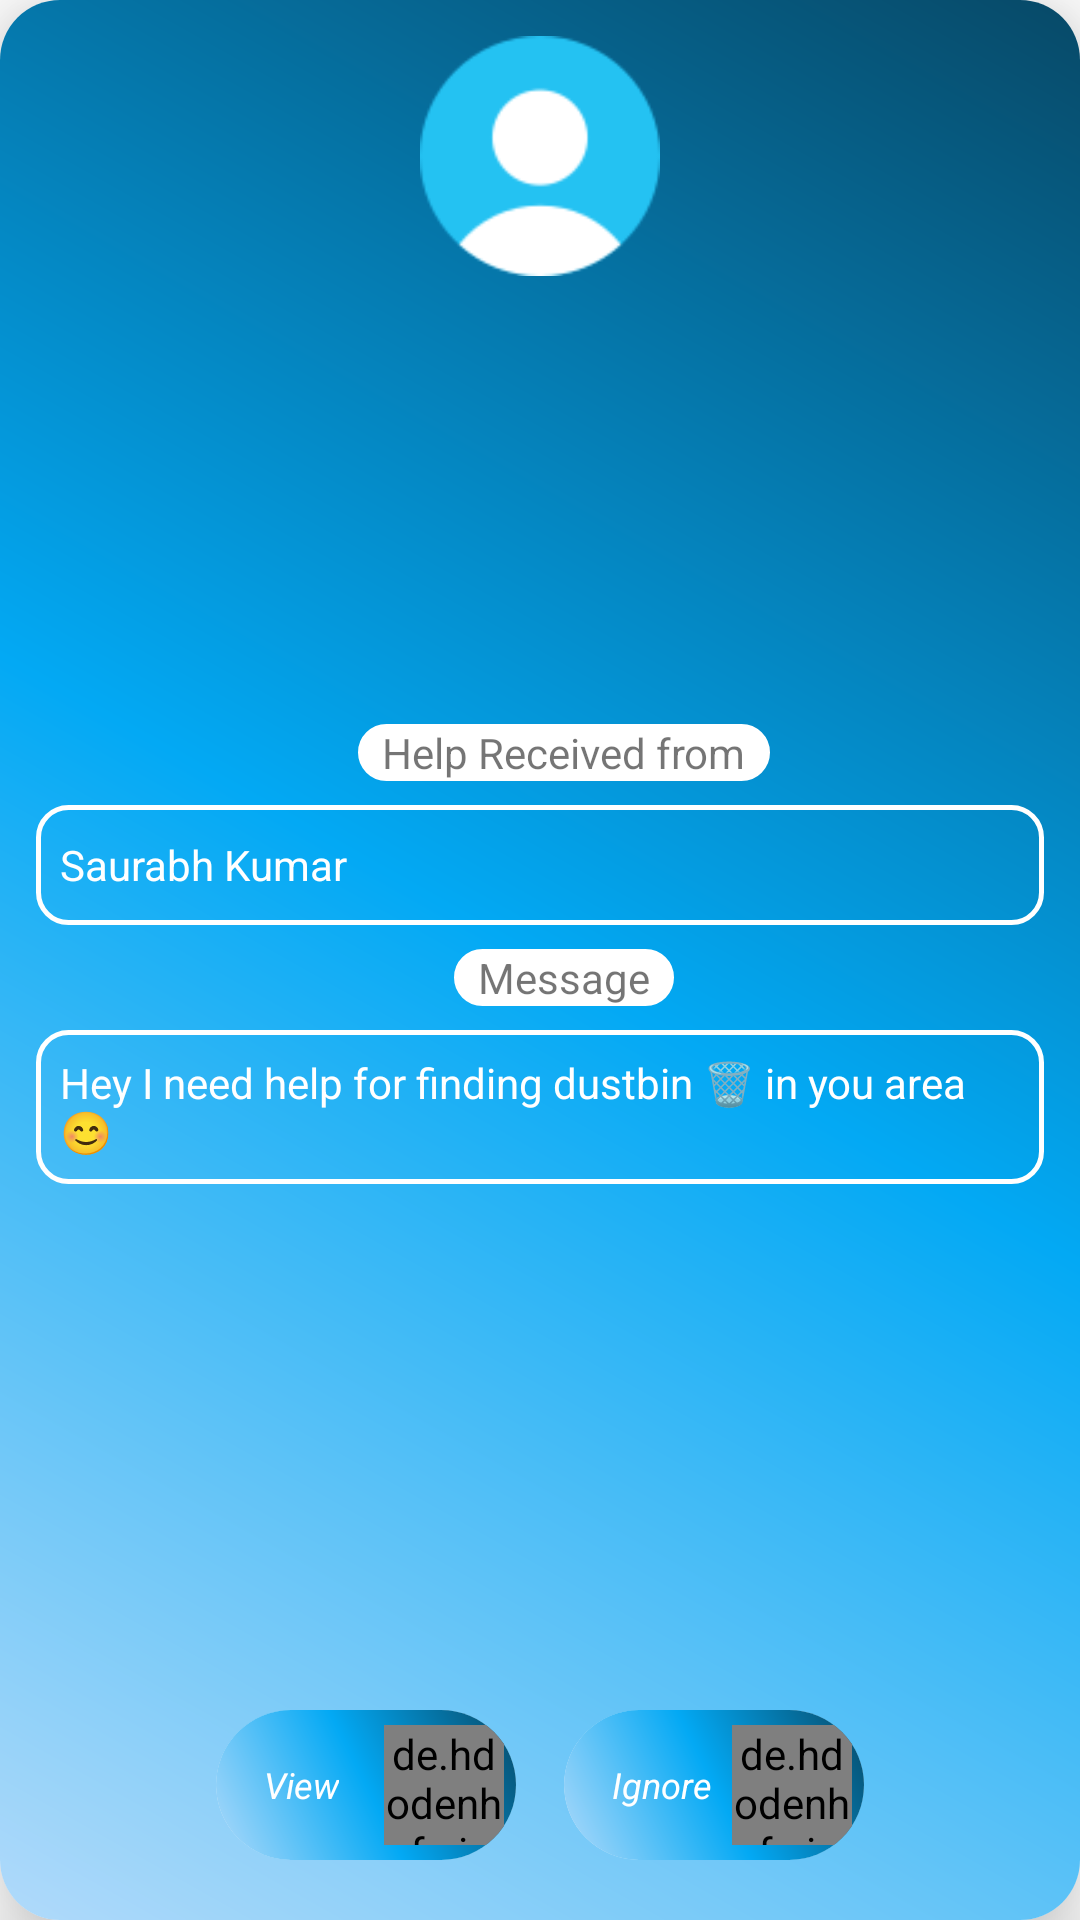

Where icons sit on this 1080px×1920px app screen, as (x1, y1, x2, y2):
profile: (420, 36, 660, 276)
